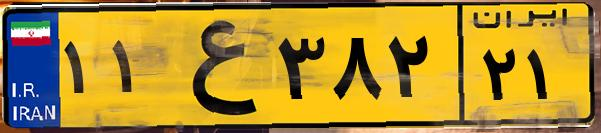1: (57, 26, 110, 100), (525, 38, 570, 115), (110, 28, 158, 98)
2: (385, 28, 445, 110), (475, 38, 525, 113)
3: (270, 28, 330, 110)
8: (330, 28, 385, 110)
ع: (158, 12, 270, 120)
